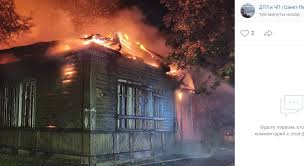fire: (27, 10, 176, 80)
